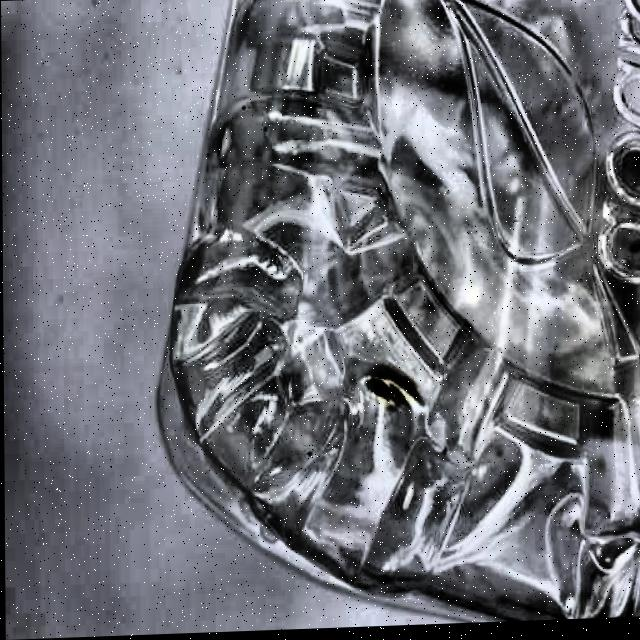plastic: (152, 0, 640, 634)
